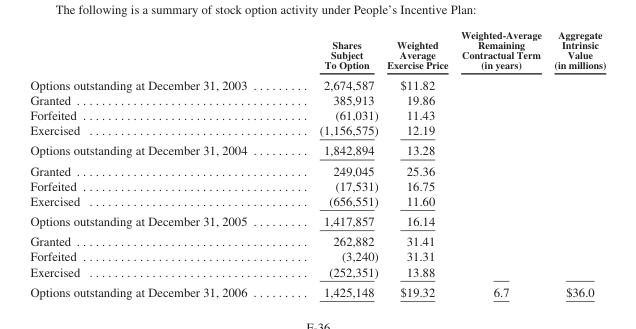table: (29, 28, 605, 298)
table column: (29, 28, 282, 298), (282, 28, 381, 298), (453, 28, 547, 298), (381, 28, 453, 298), (547, 28, 605, 298)
table column header: (29, 28, 605, 73)
table row: (29, 28, 605, 73), (29, 139, 605, 160), (29, 210, 605, 230), (29, 73, 605, 91), (29, 192, 605, 210), (29, 230, 605, 248), (29, 263, 605, 281), (29, 122, 605, 139), (29, 160, 605, 177), (29, 281, 605, 298), (29, 91, 605, 107), (29, 107, 605, 122), (29, 177, 605, 192), (29, 248, 605, 263)
